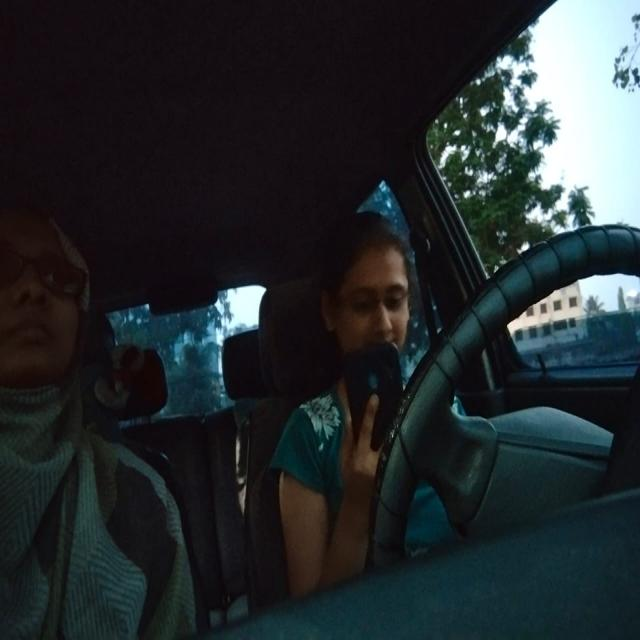mobile: (330, 335, 408, 463)
person: (2, 181, 95, 411), (306, 212, 429, 375)
